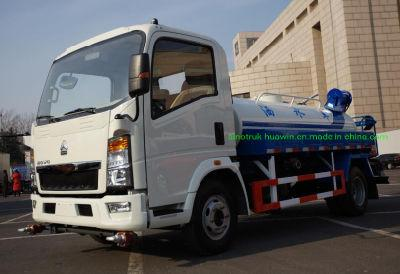truck: (30, 24, 390, 252)
